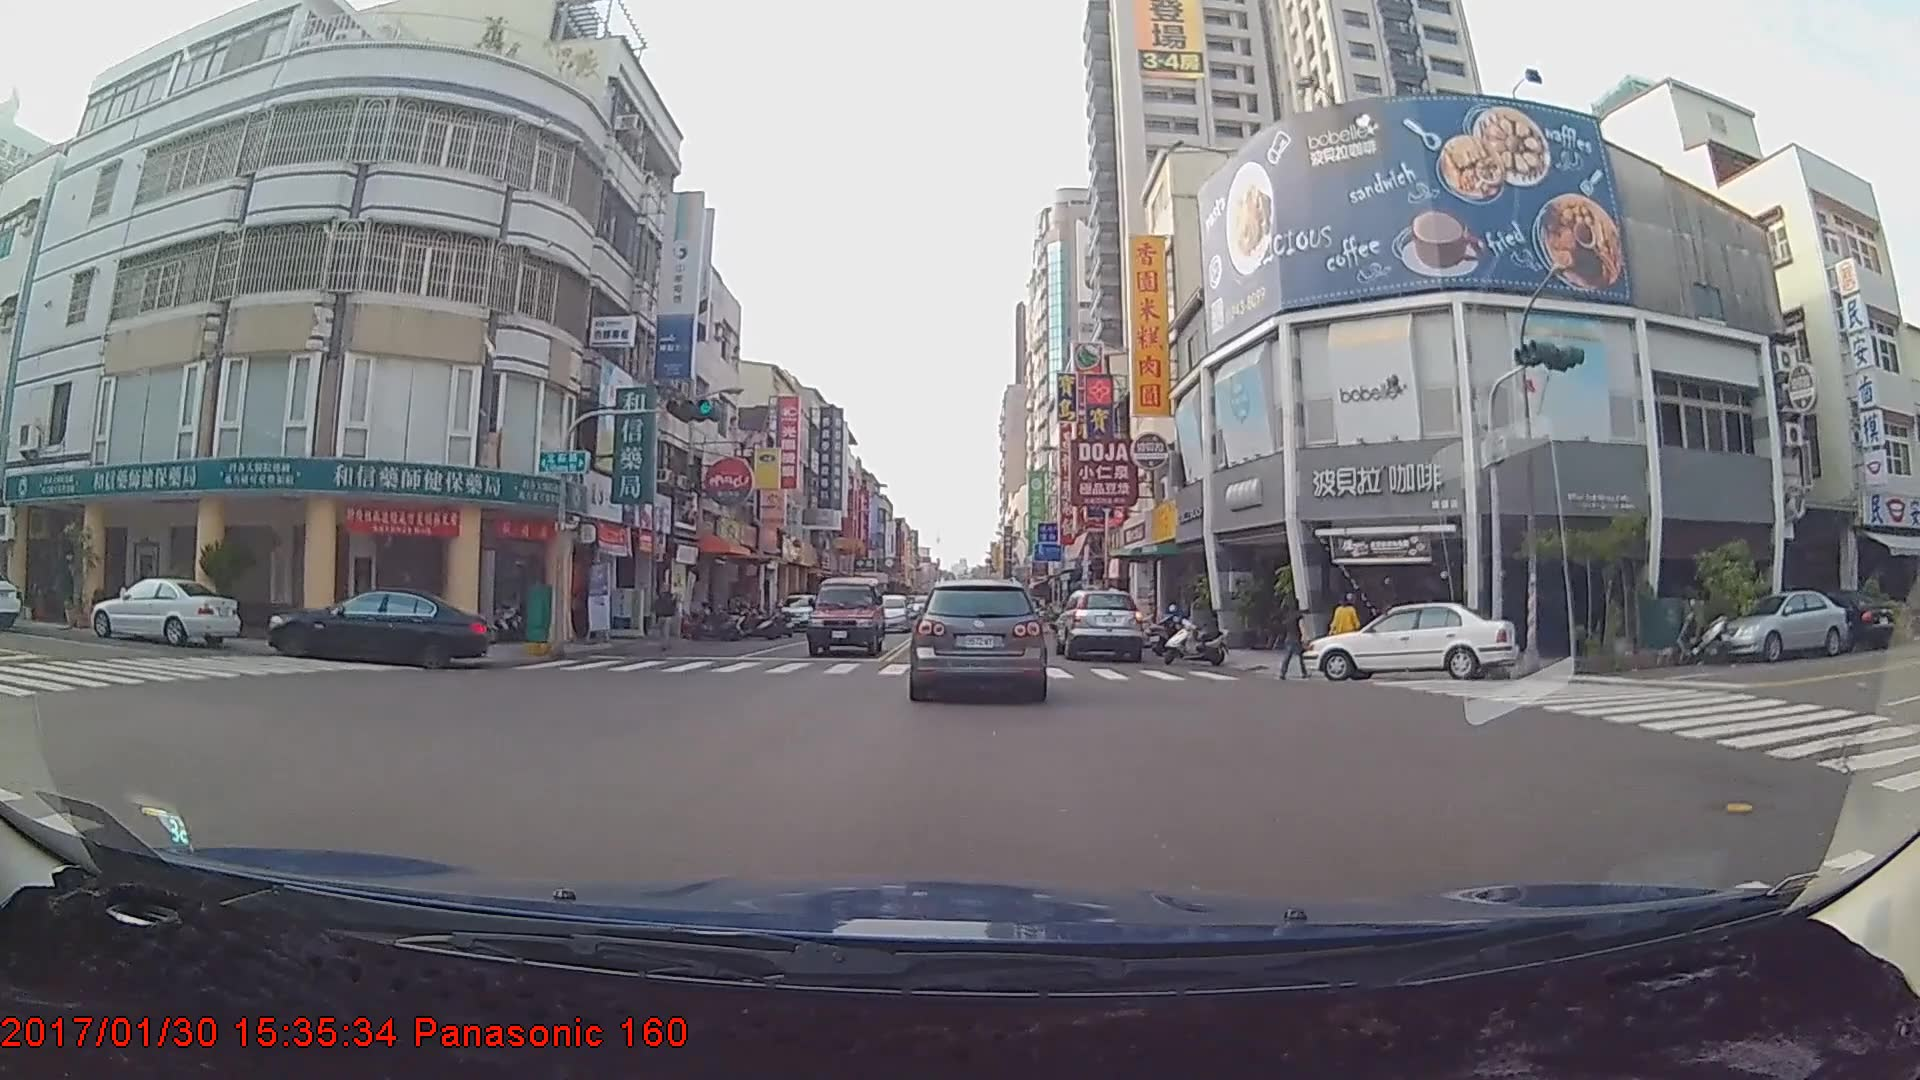pedestrian: (1328, 593, 1364, 672), (1281, 596, 1312, 682), (650, 582, 679, 652)
vehicle: (264, 586, 488, 670), (1304, 601, 1519, 683), (911, 579, 1044, 700), (91, 578, 239, 654), (1709, 589, 1846, 662), (1053, 587, 1145, 663), (803, 576, 882, 658), (865, 592, 911, 633), (774, 592, 822, 630)
